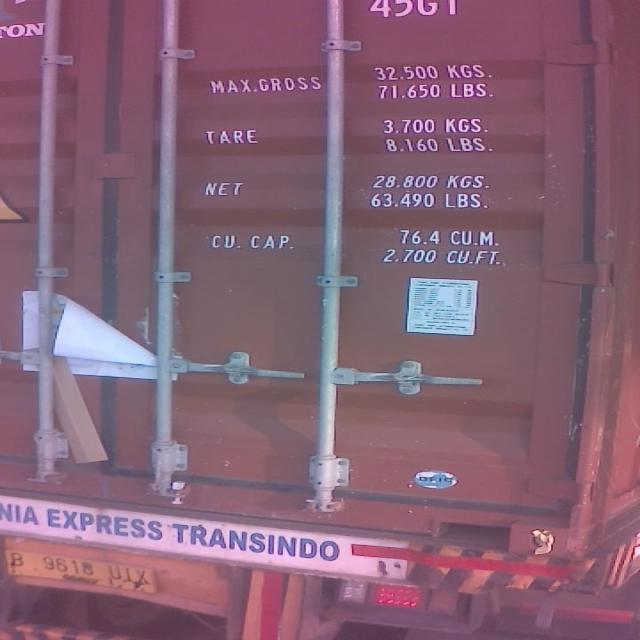seal: (160, 477, 191, 511)
